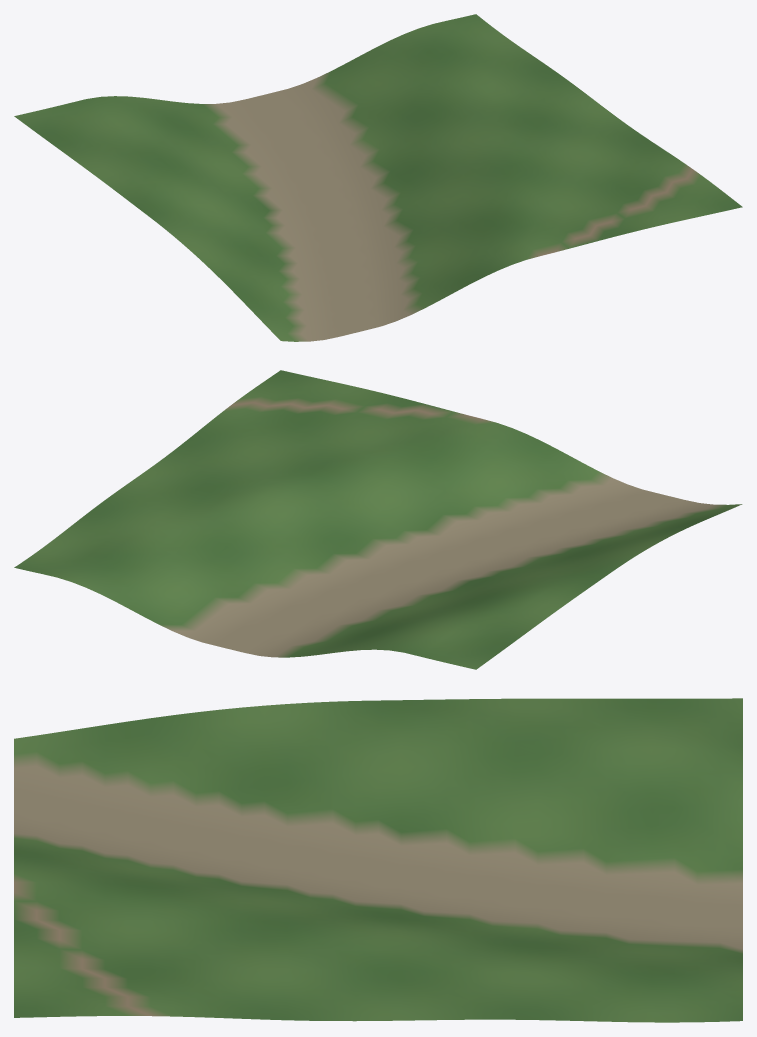
Rendered from chunk_4_2.glb.
3 renders of one model, top to bottom at view 1: azimuth 30°, elevation 25°; view 2: azimuth 150°, elevation 25°; view 3: azimuth 270°, elevation 25°, orthographic. The views are drawn at different scales.
Size of the model in its own units: 512 by 42.13 by 512.
